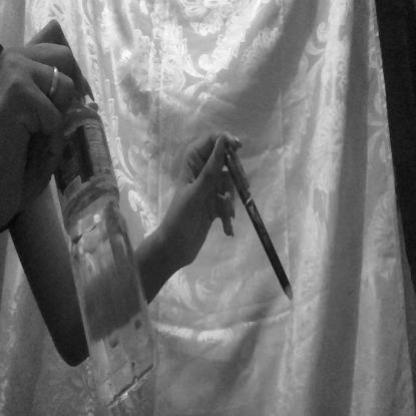Plastic Bottle: (31, 53, 175, 416)
